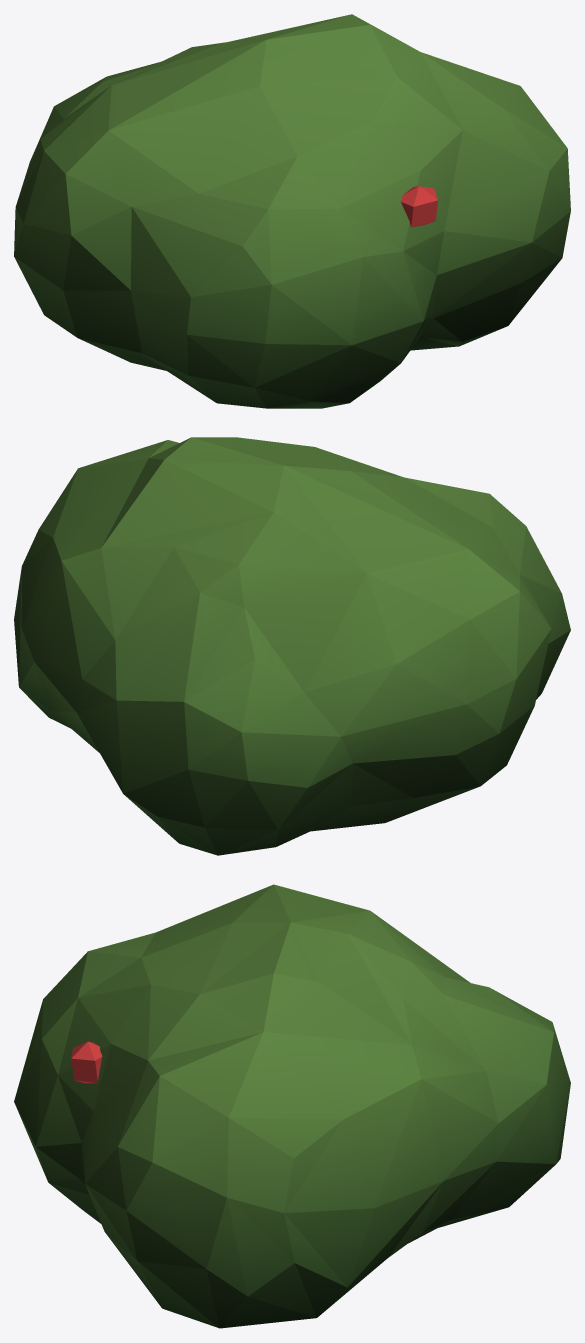
Rendered from krzak_3.glb.
3 views of the same model, one above another, from view 1: azimuth 30°, elevation 25°; view 2: azimuth 150°, elevation 25°; view 3: azimuth 270°, elevation 25° (orthographic). The views are drawn at different scales.
Parts seen in each view (by area): view 1: krzak_3; view 2: krzak_3; view 3: krzak_3.
Part boxes in pixels (x1,y1,x2,y2): krzak_3: (14, 14, 570, 408); krzak_3: (14, 437, 570, 855); krzak_3: (14, 884, 570, 1328).
Bounding box in the file's own units: 0.7806 × 0.4695 × 0.734.
